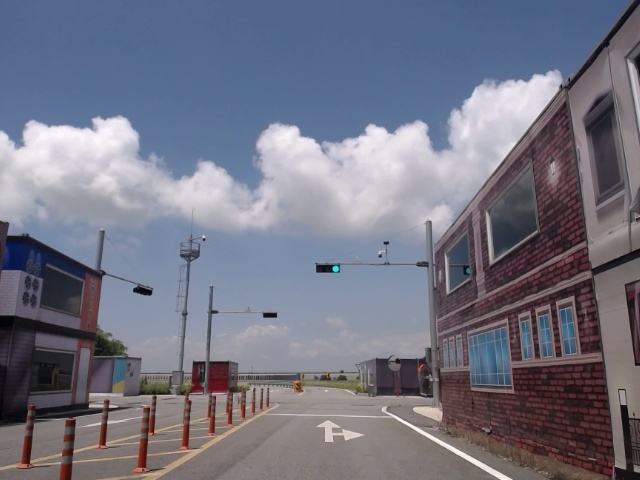green_3: (316, 264, 341, 273)
